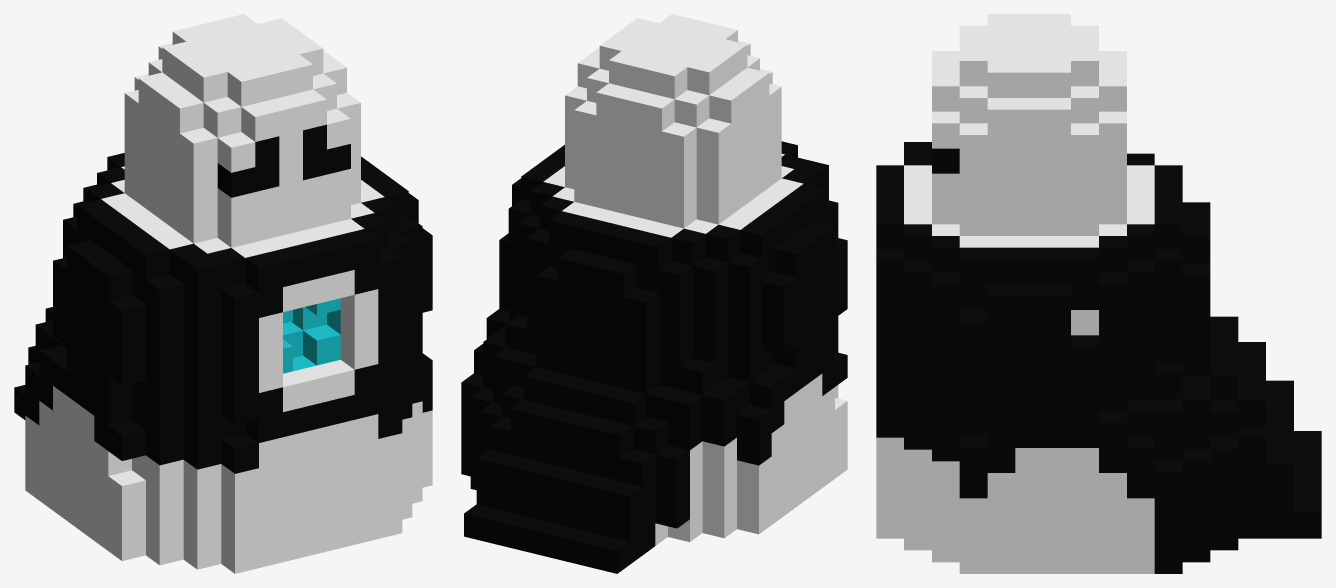
File: servant ice.gltf
The picture shows the model from 3 angles, left to right: view 1: azimuth 30°, elevation 25°; view 2: azimuth 150°, elevation 25°; view 3: azimuth 270°, elevation 25°; orthographic projection. The views are drawn at different scales.
Visible parts, largest first — view 1: Layer.1, Layer.2; view 2: Layer.2, Layer.1; view 3: Layer.2, Layer.1.
Boxes of the visible parts, left/top/right/bottom form: Layer.1: left=25, top=14, right=432, bottom=573; Layer.2: left=14, top=153, right=432, bottom=473; Layer.2: left=461, top=141, right=847, bottom=573; Layer.1: left=543, top=14, right=847, bottom=545; Layer.2: left=876, top=142, right=1321, bottom=573; Layer.1: left=876, top=14, right=1154, bottom=573.
Bounding box in the file's own units: 13 × 18 × 16.
Materials: 1 (1 with a texture image).
